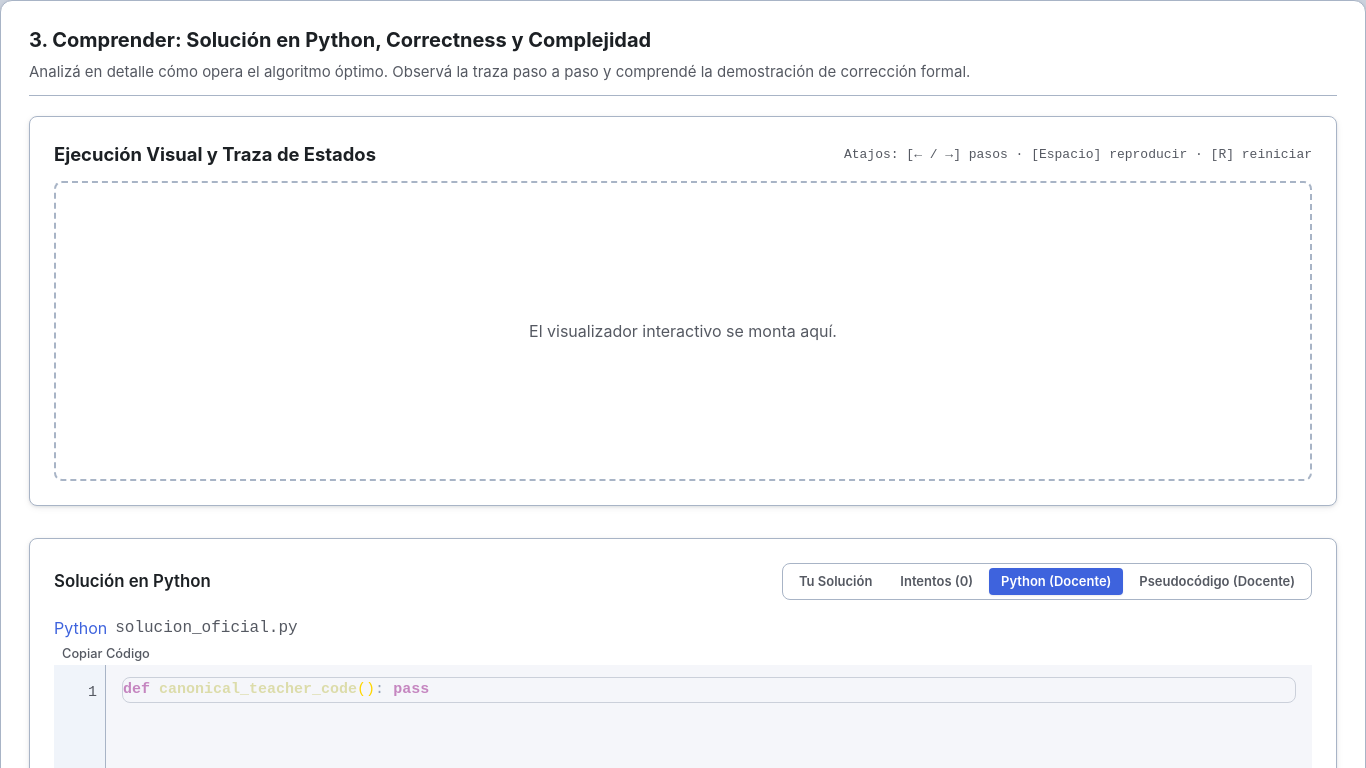
Test: Visualizers, Effort Analysis, Hint Gating & Attempt Tracking › 5. Understand View Access Control (Students vs. Faculty) › permits authenticated faculty to view canonical Python and pseudocode
This screenshot has width=1366, height=768.
Click the button with class "btn-code-toggle" showing "Pseudocódigo (Docente)".
click(1217, 581)  # box x1=1127 y1=568 x2=1307 y2=595
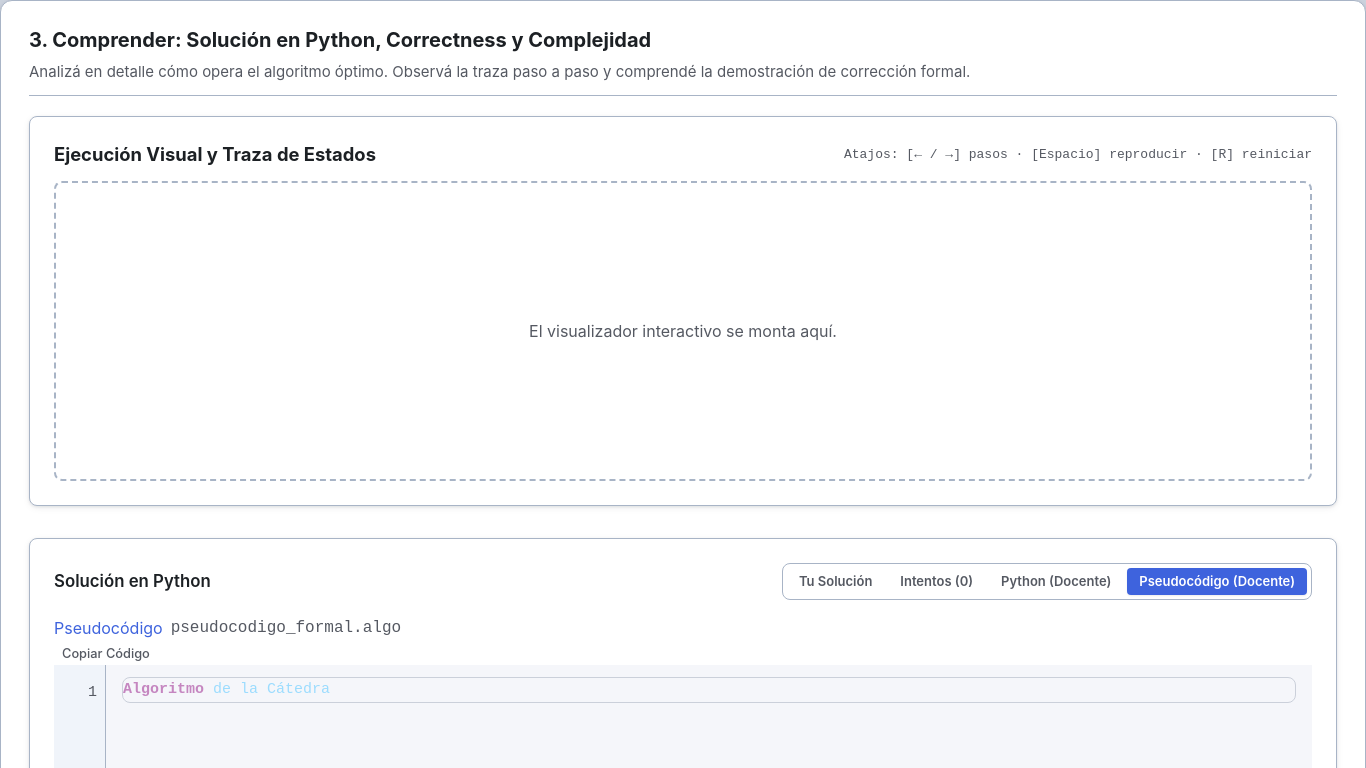
expect the text "Algoritmo de la Cátedra" is shown: met, box x1=123 y1=681 x2=330 y2=698
